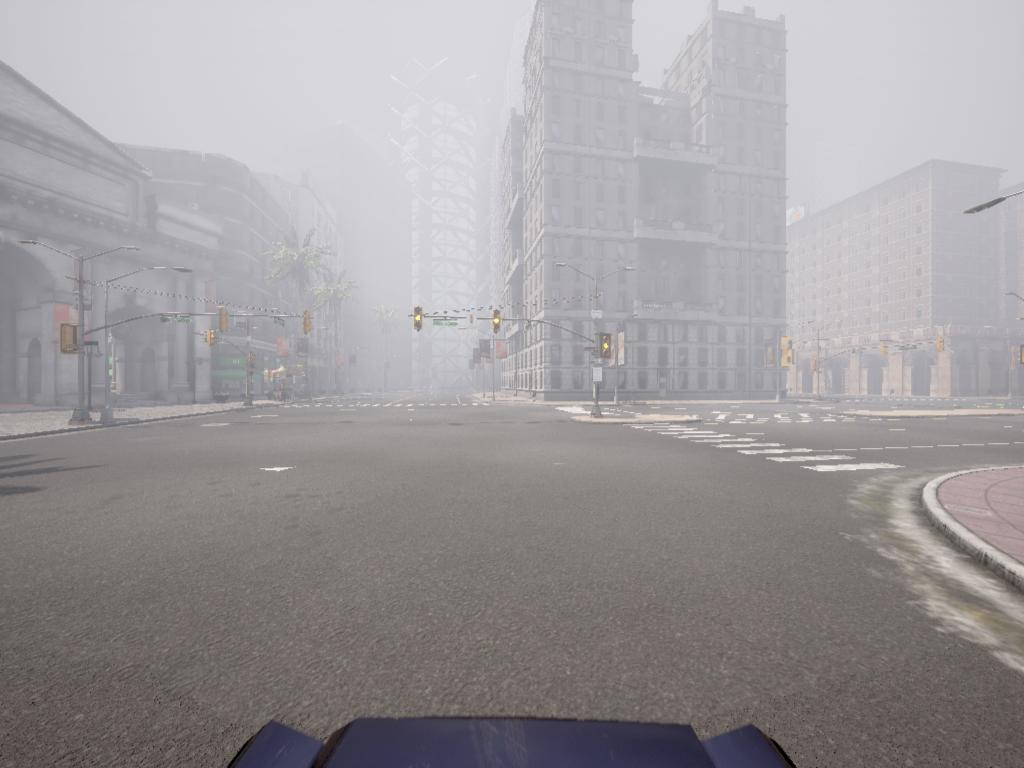traffic_light: (62, 324, 82, 353), (783, 340, 794, 370), (600, 337, 611, 362), (217, 308, 228, 332), (305, 313, 316, 336), (416, 310, 425, 333), (1015, 346, 1024, 369), (882, 340, 892, 360), (494, 311, 503, 332), (208, 330, 219, 346), (937, 339, 947, 356), (250, 356, 258, 373)
